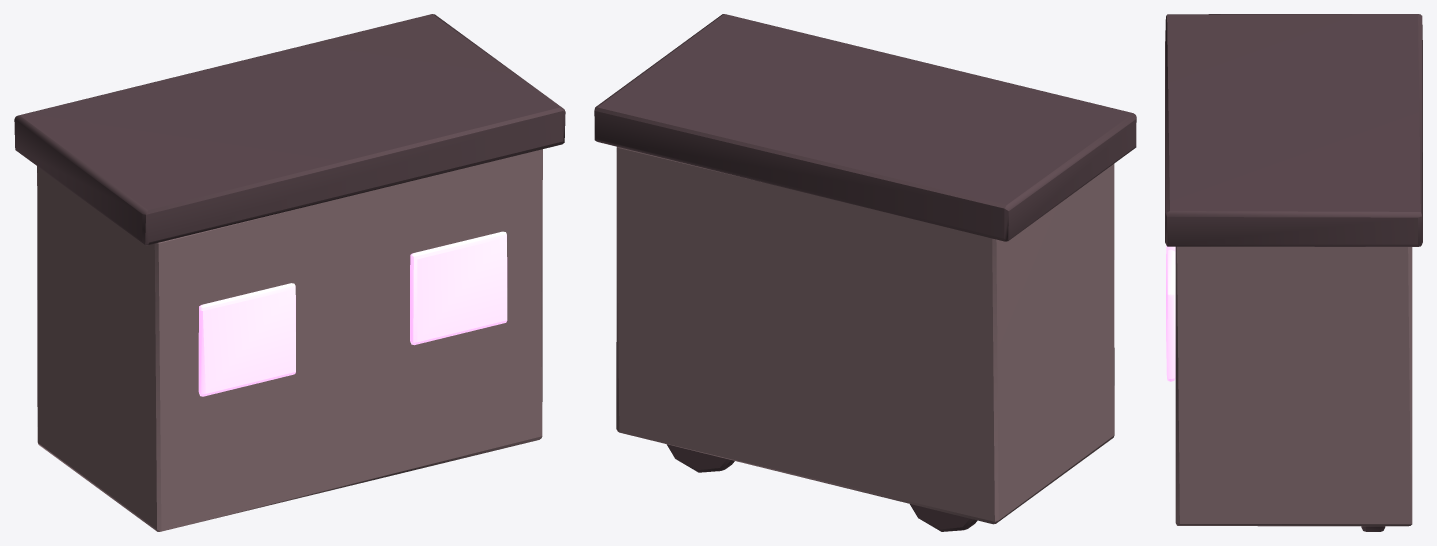
Rendered from SM_Neroberg_Funicular_LOD1.fbx.
3 views of the same model, side by side, from view 1: azimuth 30°, elevation 25°; view 2: azimuth 150°, elevation 25°; view 3: azimuth 270°, elevation 25° (orthographic). The views are drawn at different scales.
Parts seen in each view (by area): view 1: SM_Neroberg_Funicular_LOD1; view 2: SM_Neroberg_Funicular_LOD1; view 3: SM_Neroberg_Funicular_LOD1.
Part boxes in pixels (box(x1,y1,x2,y2)): SM_Neroberg_Funicular_LOD1: box(14, 14, 565, 531); SM_Neroberg_Funicular_LOD1: box(594, 14, 1136, 531); SM_Neroberg_Funicular_LOD1: box(1165, 14, 1422, 531).
Size of the model in its own units: 2.4 by 1.99 by 1.3.
